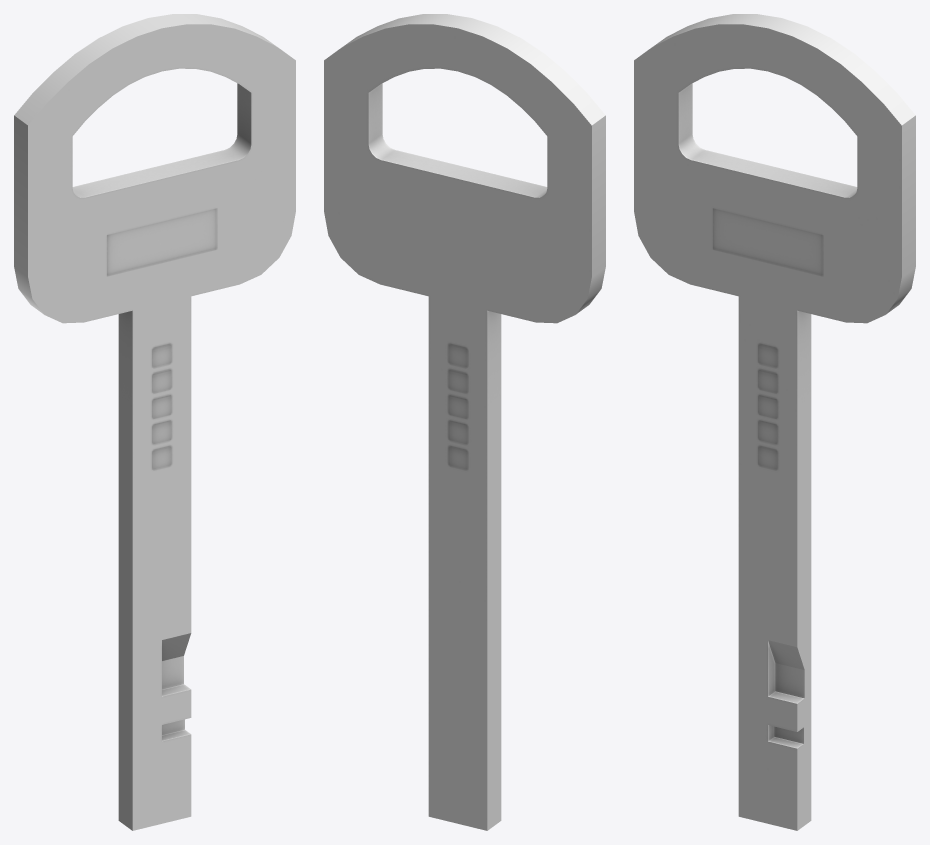
Rendered from key_low.glb.
3 renders of one model, left to right at view 1: azimuth 30°, elevation 25°; view 2: azimuth 150°, elevation 25°; view 3: azimuth 330°, elevation 25°, orthographic.
Parts seen in each view (by area): view 1: key_low; view 2: key_low; view 3: key_low.
Boxes of the visible parts, <box> form: key_low: <box>14,14,295,830</box>; key_low: <box>324,14,605,830</box>; key_low: <box>634,14,915,830</box>.
Size of the model in its own units: 0.1021 by 0.29 by 0.00925.
Materials: 1 (1 with a texture image).
